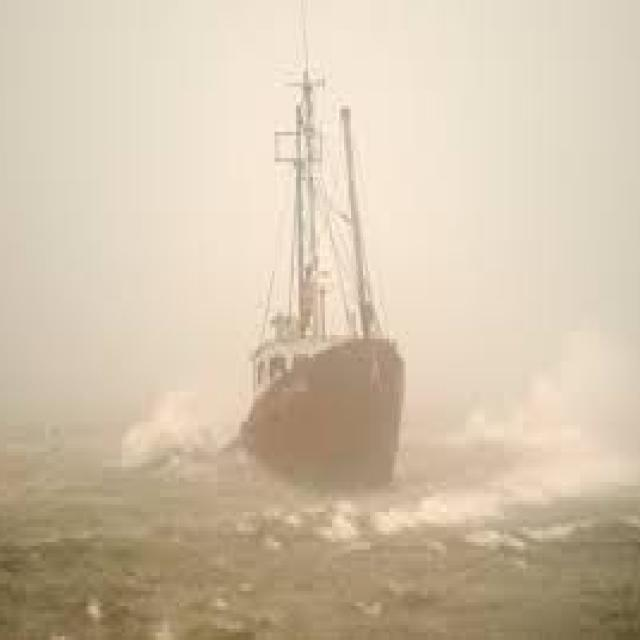fishing boat: (241, 70, 410, 502)
